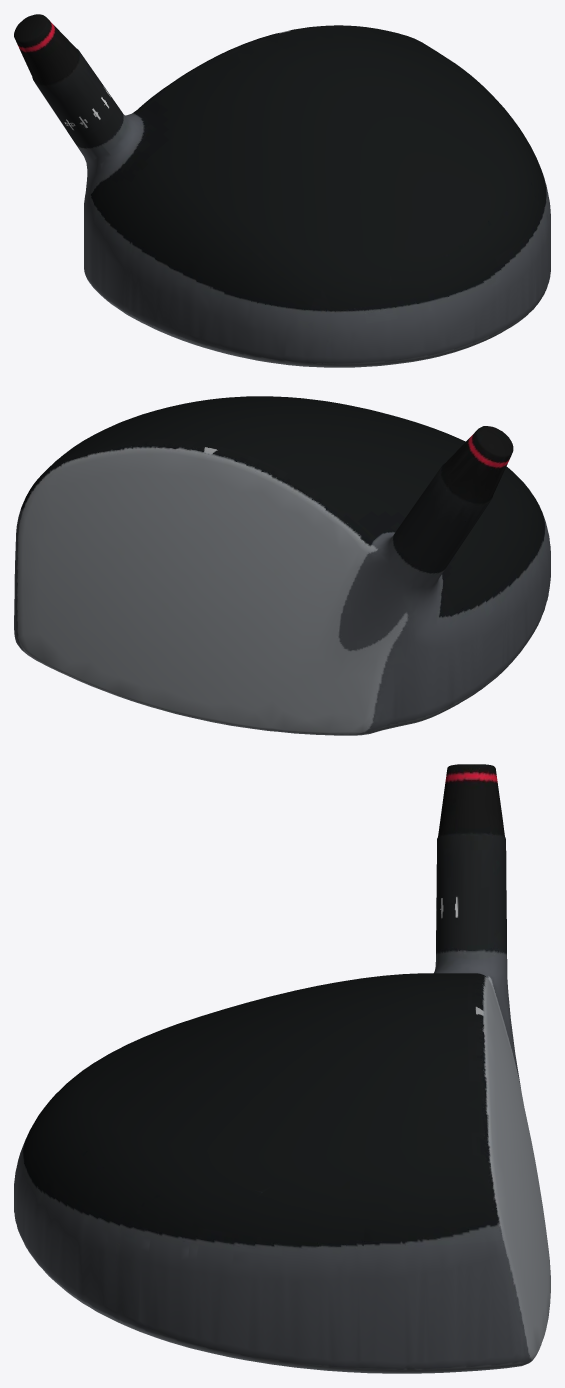
3 renders of one model, top to bottom at view 1: azimuth 30°, elevation 25°; view 2: azimuth 150°, elevation 25°; view 3: azimuth 270°, elevation 25°, orthographic. The views are drawn at different scales.
Visible parts, largest first — view 1: head; view 2: head; view 3: head.
Part boxes in pixels (box(x1,y1,x2,y2)): head: box(14, 14, 550, 367); head: box(14, 396, 550, 735); head: box(14, 764, 550, 1373).
Bounding box in the file's own units: 0.1319 × 0.0835 × 0.1075.
Materials: 1 (1 with a texture image).
